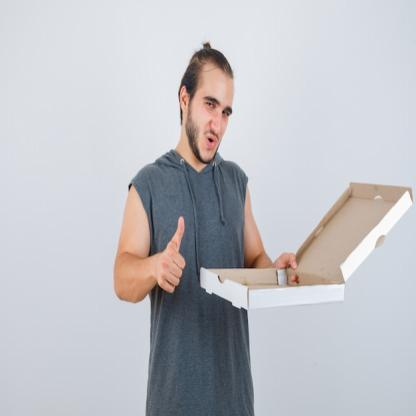thumb_up: (154, 214, 190, 295)
